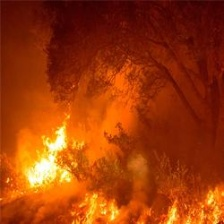fire: (9, 114, 106, 193), (66, 196, 224, 223)
